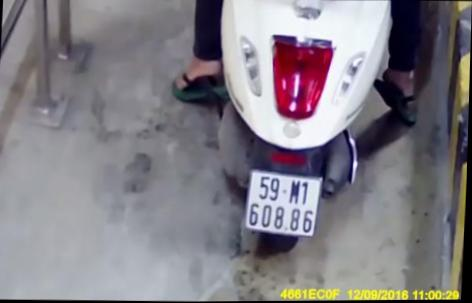LP: (246, 169, 325, 240)
